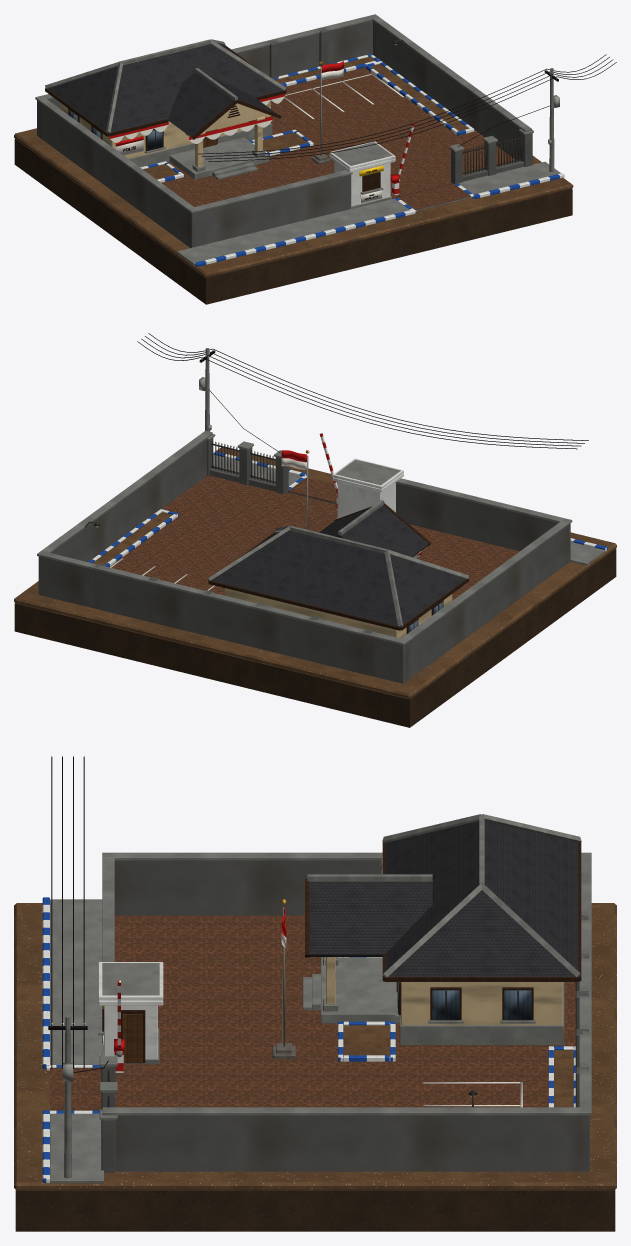
The model's file is kantor_polisi_area.fbx.
The picture shows the model from 3 angles, top to bottom: view 1: azimuth 30°, elevation 25°; view 2: azimuth 150°, elevation 25°; view 3: azimuth 270°, elevation 25°; orthographic projection. The views are drawn at different scales.
Visible parts, largest first — view 1: KP_Walls_Plaster, KP_Paving, KP_BaseSoil, KP_Bldg_Roof, KP_BaseDirt, KP_Sidewalk_concrete, KP_Walls_Cap, KP_Bldg_Concrete, KP_ElecPole_Parts, KP_Bed_Kerbs, KP_Bldg_WallCream, KP_Bed_Soil (+13 smaller); view 2: KP_Walls_Plaster, KP_BaseSoil, KP_Paving, KP_Bldg_Roof, KP_BaseDirt, KP_Walls_Cap, KP_ElecPole_Parts, KP_Bldg_Trim_concrete, KP_PosJaga_Paint, KP_Bldg_WallCream, KP_Fence_Plaster_plaster, KP_Bldg_Trim_wood_dark (+8 smaller); view 3: KP_Paving, KP_Walls_Plaster, KP_Bldg_Roof, KP_BaseDirt, KP_BaseSoil, KP_Walls_Cap, KP_Sidewalk_concrete, KP_Bldg_Concrete, KP_Bldg_WallCream, KP_Bldg_Trim_concrete, KP_Bed_Soil, KP_PosJaga_Paint (+11 smaller).
Part boxes in pixels (left/top/right/bottom): KP_Walls_Plaster: left=37, top=20, right=520, bottom=247; KP_Paving: left=161, top=67, right=514, bottom=206; KP_BaseSoil: left=14, top=138, right=572, bottom=304; KP_Bldg_Roof: left=47, top=44, right=283, bottom=137; KP_BaseDirt: left=14, top=128, right=573, bottom=278; KP_Sidewalk_concrete: left=177, top=161, right=560, bottom=264; KP_Walls_Cap: left=35, top=14, right=531, bottom=213; KP_Bldg_Concrete: left=128, top=123, right=272, bottom=179; KP_ElecPole_Parts: left=198, top=54, right=616, bottom=161; KP_Bed_Kerbs: left=140, top=54, right=474, bottom=182; KP_Bldg_WallCream: left=60, top=100, right=271, bottom=167; KP_Bed_Soil: left=143, top=56, right=468, bottom=179; KP_Walls_Plaster: left=38, top=439, right=570, bottom=683; KP_BaseSoil: left=14, top=548, right=616, bottom=727; KP_Paving: left=109, top=475, right=519, bottom=600; KP_Bldg_Roof: left=212, top=505, right=465, bottom=626; KP_BaseDirt: left=14, top=447, right=616, bottom=699; KP_Walls_Cap: left=37, top=430, right=572, bottom=645; KP_ElecPole_Parts: left=137, top=333, right=588, bottom=452; KP_Bldg_Trim_concrete: left=208, top=500, right=468, bottom=627; KP_PosJaga_Paint: left=332, top=458, right=403, bottom=518; KP_Bldg_WallCream: left=225, top=551, right=452, bottom=638; KP_Fence_Plaster_plaster: left=207, top=438, right=288, bottom=494; KP_Bldg_Trim_wood_dark: left=208, top=503, right=468, bottom=630; KP_Paving: left=114, top=915, right=575, bottom=1107; KP_Walls_Plaster: left=114, top=860, right=589, bottom=1171; KP_Bldg_Roof: left=309, top=821, right=578, bottom=976; KP_BaseDirt: left=14, top=903, right=616, bottom=1190; KP_BaseSoil: left=15, top=1190, right=615, bottom=1231; KP_Walls_Cap: left=102, top=852, right=591, bottom=1115; KP_Sidewalk_concrete: left=50, top=899, right=103, bottom=1183; KP_Bldg_Concrete: left=303, top=957, right=564, bottom=1045; KP_Bldg_WallCream: left=326, top=957, right=562, bottom=1025; KP_Bldg_Trim_concrete: left=307, top=814, right=581, bottom=977; KP_Bed_Soil: left=343, top=1025, right=573, bottom=1107; KP_PosJaga_Paint: left=98, top=962, right=163, bottom=1058.
Bounding box in the file's own units: 85.03 × 26 × 67.
Materials: 14 (14 with a texture image).
